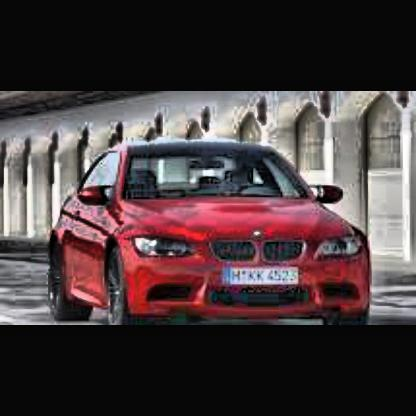BMW M3 Coupe 2012: (47, 149, 373, 325)
